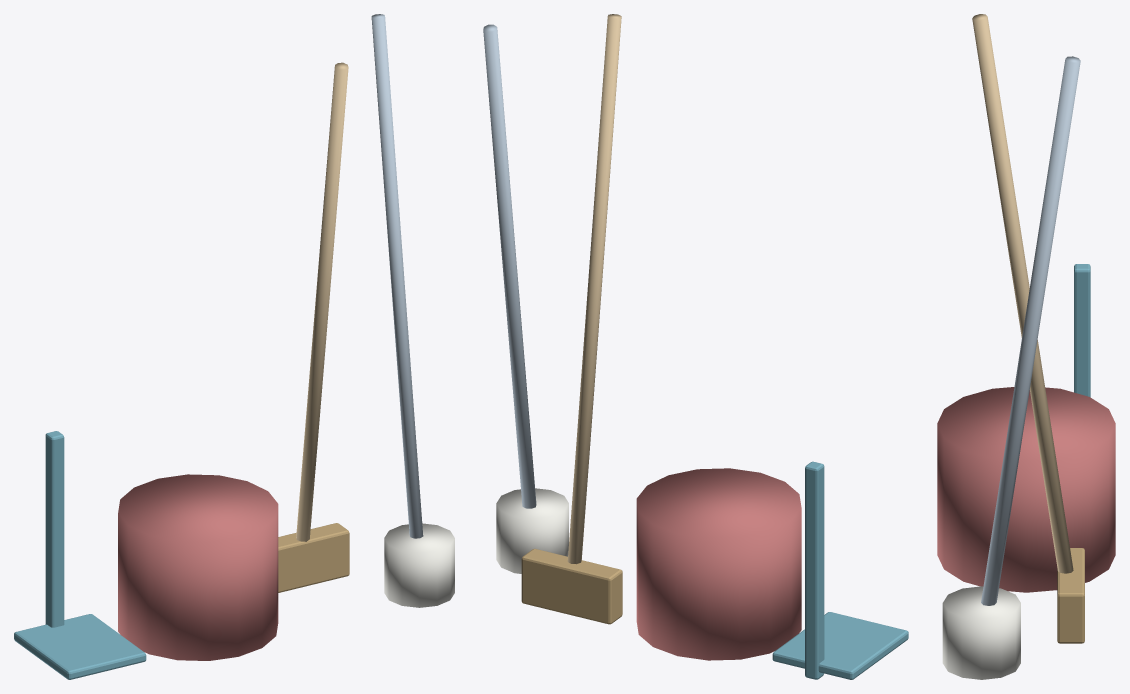
File: cleaning_corner.glb
3 renders of one model, left to right at view 1: azimuth 30°, elevation 25°; view 2: azimuth 150°, elevation 25°; view 3: azimuth 270°, elevation 25°, orthographic. The views are drawn at different scales.
Visible parts, largest first — view 1: bucket, mop_handle, broom_handle, mop_head, dustpan, dustpan_handle, broom_head; view 2: bucket, broom_handle, mop_handle, broom_head, dustpan, mop_head, dustpan_handle; view 3: bucket, mop_handle, broom_handle, mop_head, broom_head, dustpan_handle.
Boxes of the visible parts, left/top/right/bottom form: bucket: left=118, top=474, right=278, bottom=660; mop_handle: left=371, top=14, right=423, bottom=538; broom_handle: left=296, top=62, right=348, bottom=541; mop_head: left=384, top=523, right=454, bottom=607; dustpan: left=14, top=614, right=146, bottom=679; dustpan_handle: left=45, top=431, right=64, bottom=627; broom_head: left=278, top=523, right=349, bottom=592; bucket: left=636, top=468, right=801, bottom=660; broom_handle: left=567, top=14, right=621, bottom=564; mop_handle: left=483, top=24, right=536, bottom=508; broom_head: left=521, top=548, right=622, bottom=624; dustpan: left=772, top=612, right=908, bottom=679; mop_head: left=496, top=488, right=568, bottom=573; dustpan_handle: left=805, top=461, right=824, bottom=679; bucket: left=937, top=387, right=1115, bottom=592; mop_handle: left=981, top=56, right=1080, bottom=605; broom_handle: left=972, top=14, right=1073, bottom=573; mop_head: left=942, top=586, right=1020, bottom=679; broom_head: left=1057, top=548, right=1084, bottom=643; dustpan_handle: left=1074, top=264, right=1090, bottom=397.
Size of the model in its own units: 0.89 by 1.2 by 0.32.
